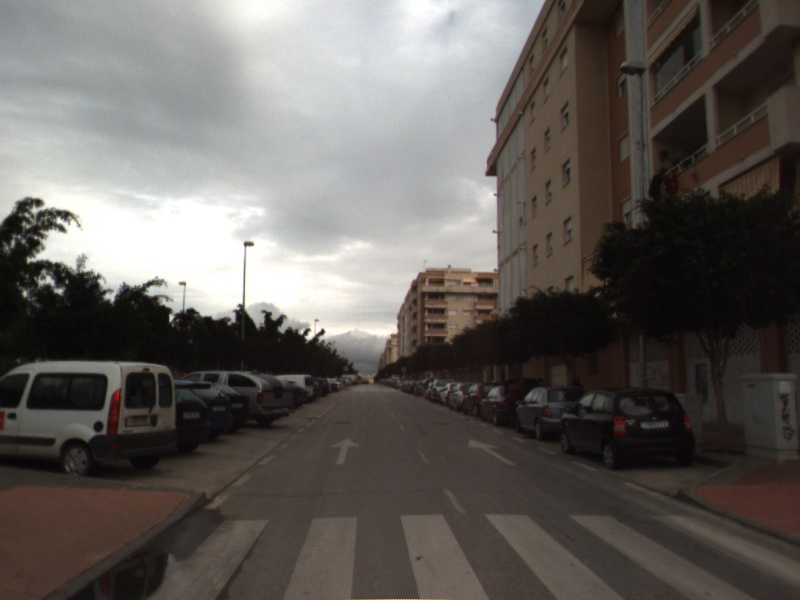STRAIGHT: (466, 437, 518, 468), (329, 436, 363, 466)
